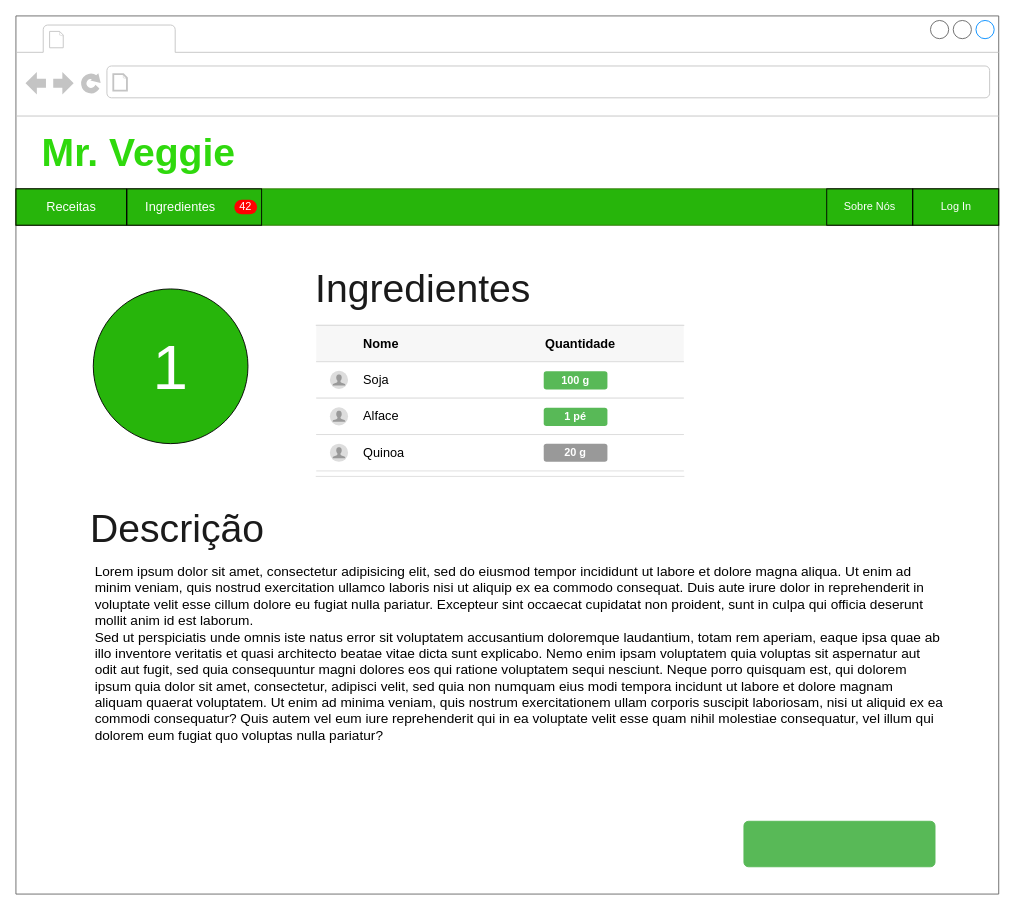
Some shapes in this 1015 by 910 pixel diagram are drawn without their labels. The centre of each missing label's shape, as x and y in pixels:
"Próximo": (x=839, y=843)
https://www.mrveggie.pt/receita_x/passo_n: (x=247, y=82)
Receita: (x=138, y=38)
